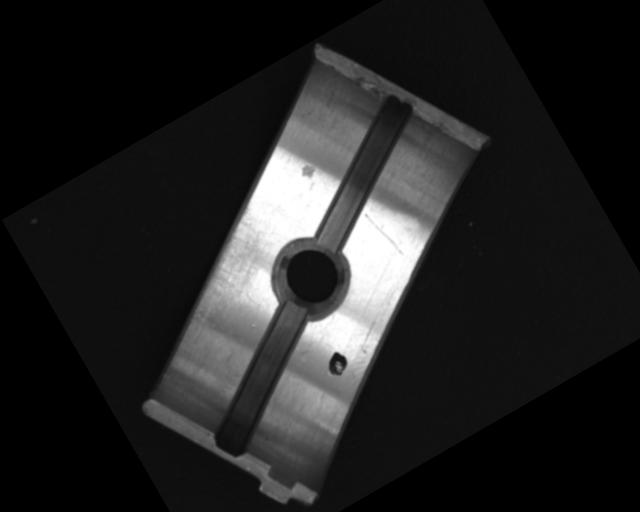blot: (321, 347, 353, 380)
bruise: (296, 159, 320, 182)
gap: (272, 88, 457, 258), (173, 294, 353, 462)
hole: (257, 222, 366, 332)
nick: (364, 206, 406, 262)
scratch: (145, 200, 295, 338)
